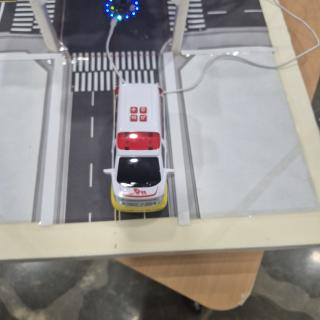Ambulance: (103, 83, 174, 212)
